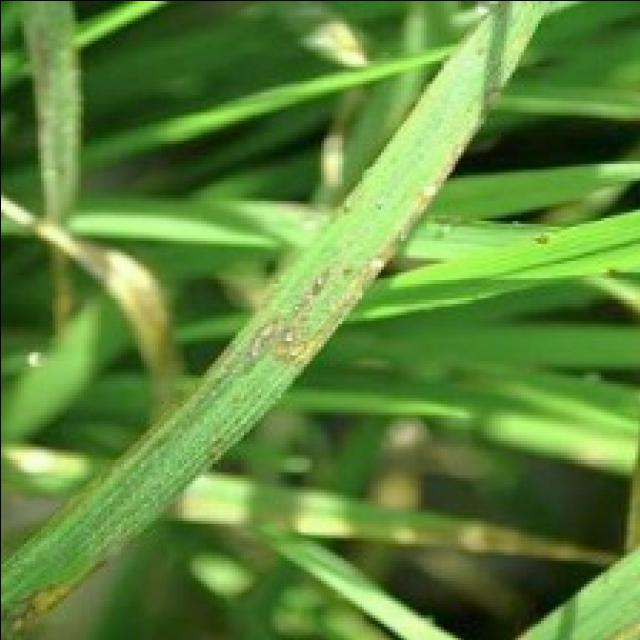Unhealthy: (0, 187, 180, 427), (251, 170, 450, 371), (155, 494, 620, 566), (0, 540, 125, 640), (484, 86, 503, 115)
